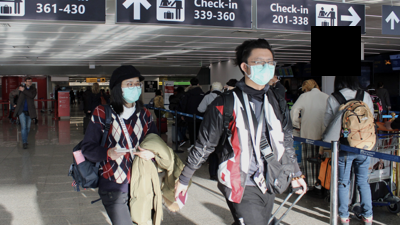with_mask: (249, 57, 275, 86), (122, 80, 142, 104)
without_mask: (27, 81, 33, 86)
